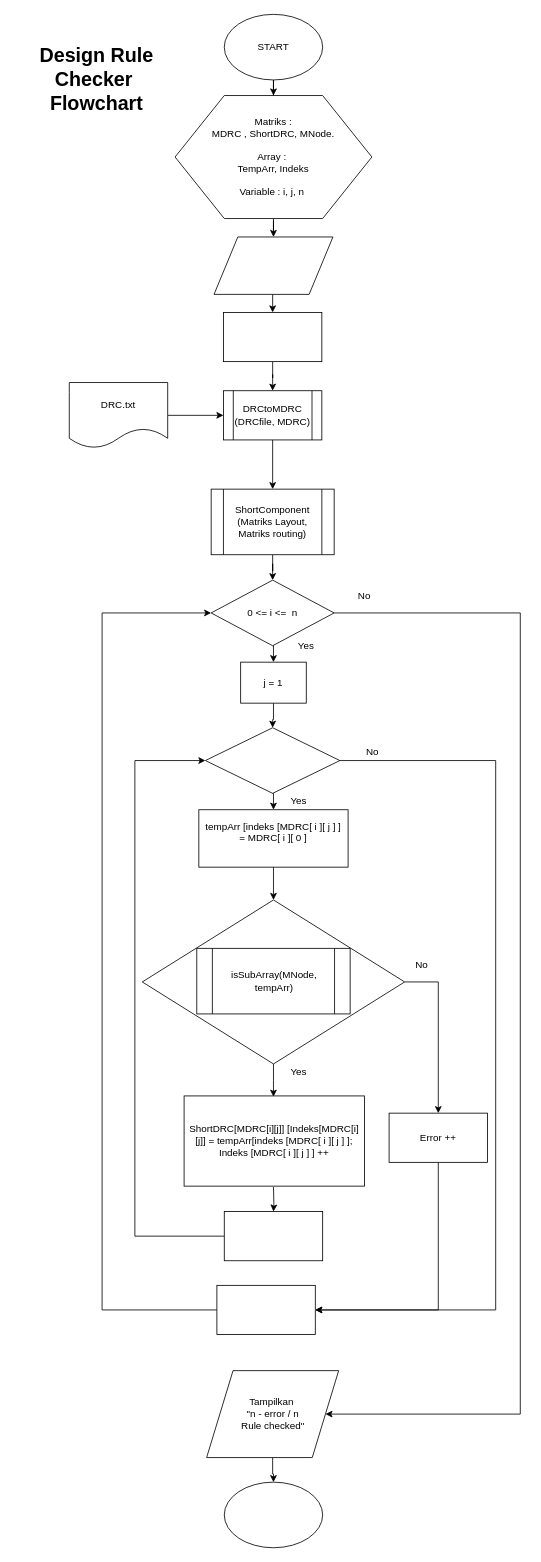
The diagram is 541 pixels wide and 1562 high, and some of its shapes have lost their labels. The shapes that lost their labels are listed below. From the top down, each one's centre as x and y in pixels, then its label:
pixel 273 265: matriks layout dan routing
pixel 272 337: Inisiasi Matrix MDRC[ i ] [ j ] dengan "x"
pixel 272 760: while MDRC[ i ] [ j ] != "x"
pixel 273 1236: j++
pixel 265 1310: i++
pixel 273 1514: END
